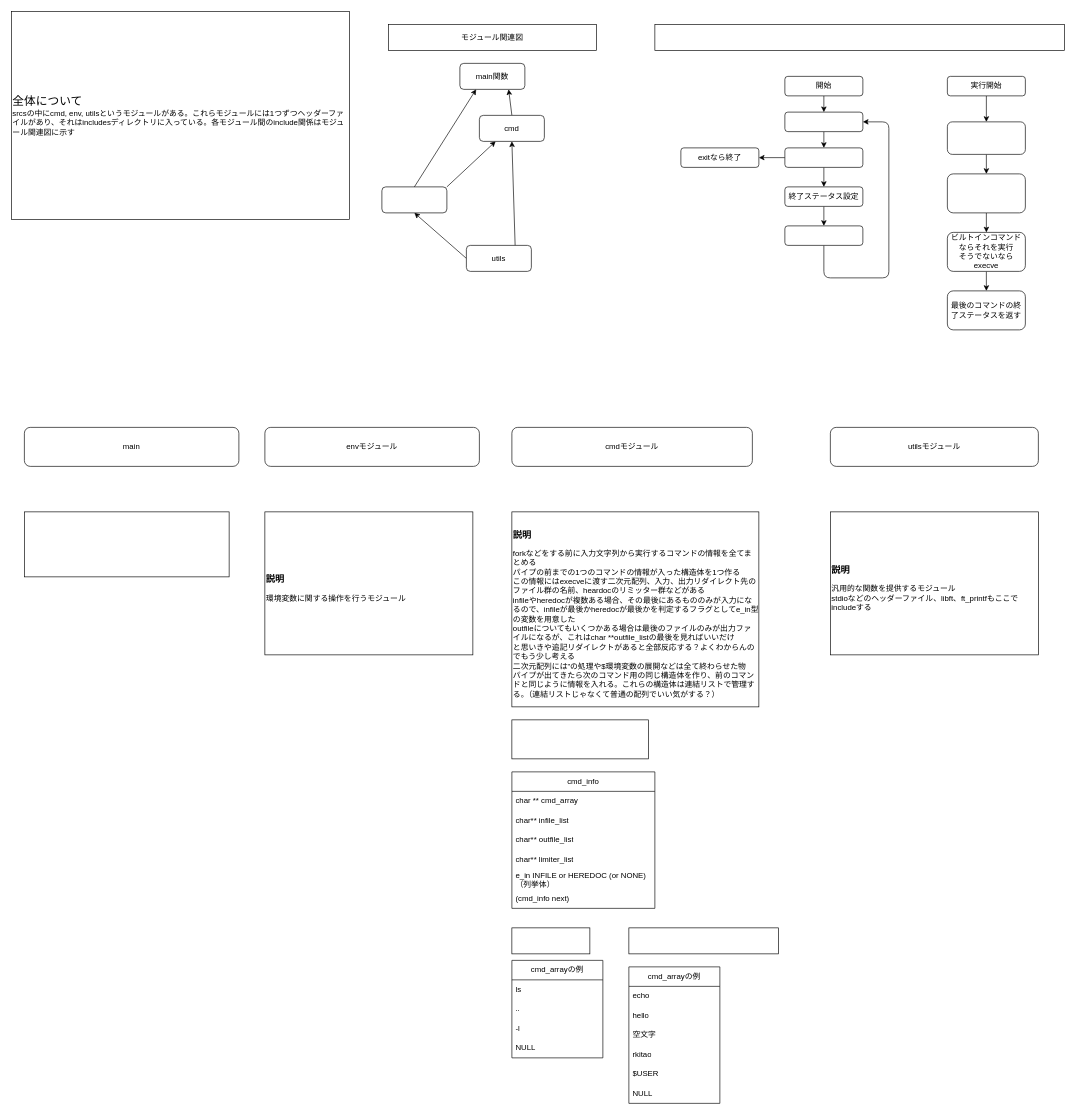
The diagram is 1076 pixels wide and 1115 high, and some of its shapes have lost their labels. The shapes that lost their labels are listed below. From the top down, each one's centre as x and y in pixels, then its label:
point (859, 37): フローチャート
point (823, 121): 入力を読み取る
point (986, 137): コマンドの情報を構造体に格納する
point (823, 157): 実行
point (414, 199): env
point (986, 193): forkを使って多段パイプ実装
point (823, 235): 履歴に入れる
point (126, 544): 説明 入力を読み取り、コマンド履歴に追加する
point (579, 739): 使用変数の例
point (550, 940): ls .. -l
point (703, 940): echo hello "" "$USER" '$USER'
